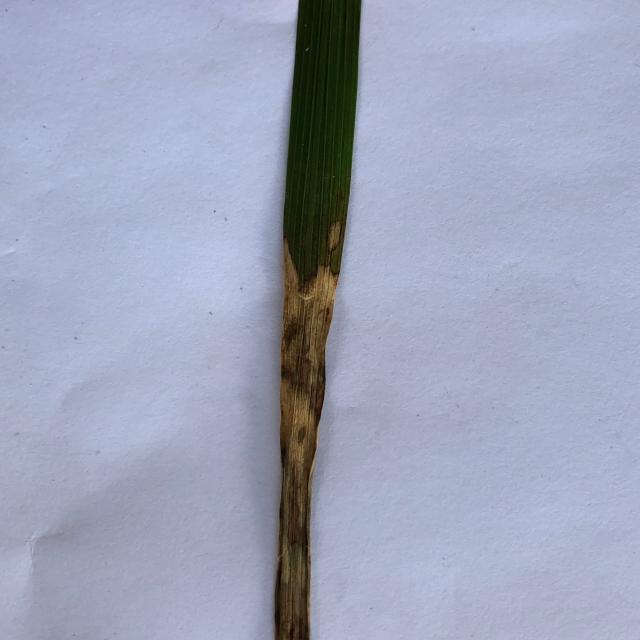Leaf Blight: (275, 223, 340, 640)
